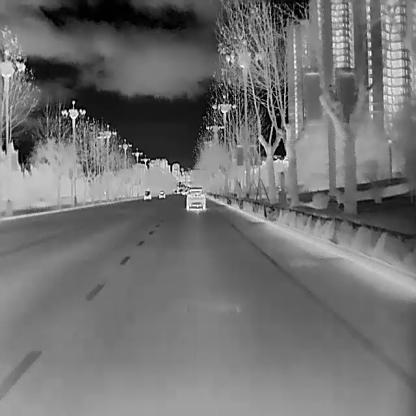car: (185, 187, 206, 210), (142, 188, 151, 200), (158, 190, 165, 199)
